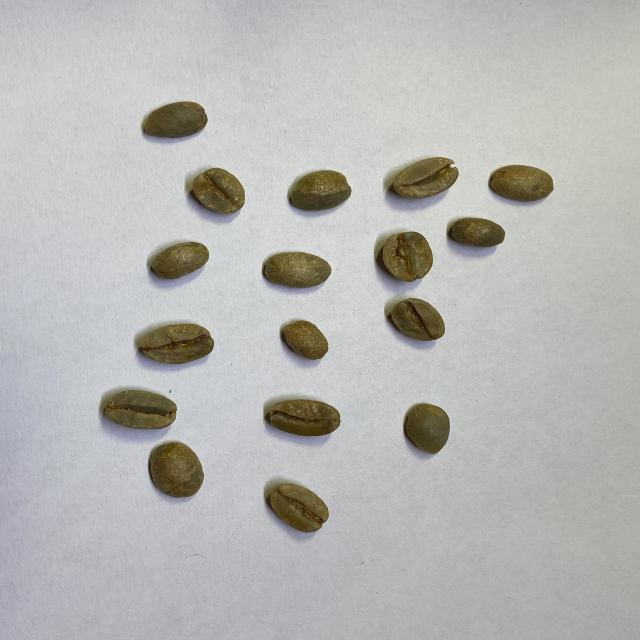bad: (380, 229, 433, 282)
good: (148, 441, 204, 500), (267, 483, 329, 535), (138, 323, 215, 364), (390, 156, 459, 198), (103, 390, 176, 429), (268, 399, 341, 437), (191, 167, 246, 216), (263, 250, 332, 289), (488, 165, 556, 204), (141, 101, 209, 139), (289, 171, 352, 211), (392, 297, 448, 342), (404, 402, 450, 454), (150, 242, 209, 280), (282, 320, 330, 360), (450, 217, 506, 250)
